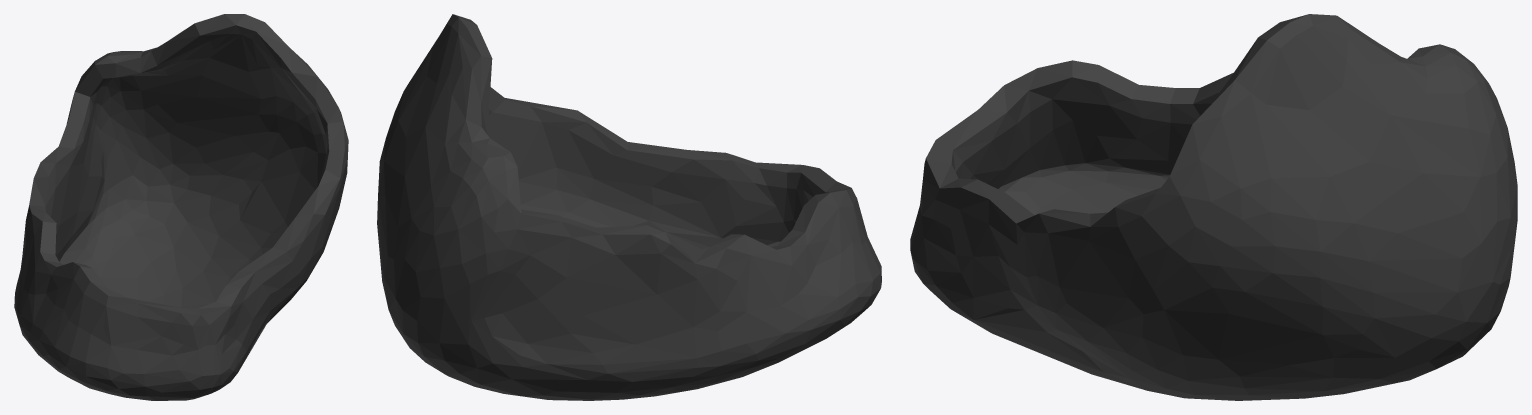
File: Talus_head.glb
3 renders of one model, left to right at view 1: azimuth 30°, elevation 25°; view 2: azimuth 150°, elevation 25°; view 3: azimuth 270°, elevation 25°, orthographic. The views are drawn at different scales.
Visible parts, largest first — view 1: Talus_head; view 2: Talus_head; view 3: Talus_head.
Part boxes in pixels (x1,y1,x2,y2): Talus_head: (14,14,348,400); Talus_head: (377,14,881,400); Talus_head: (910,14,1517,400).
Size of the model in its own units: 0.0219 by 0.0178 by 0.0229.
Materials: 1 (1 with a texture image).
